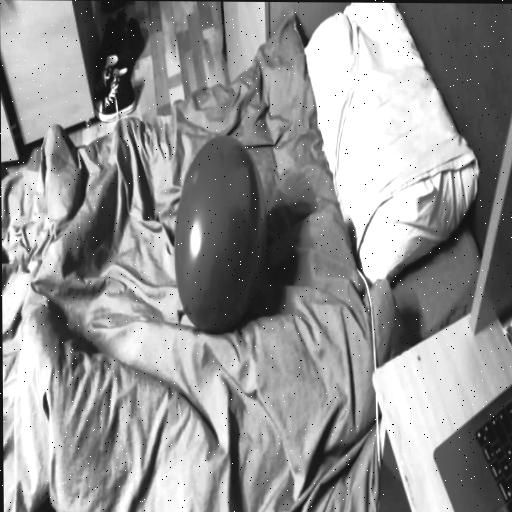balloon: (166, 129, 275, 345)
